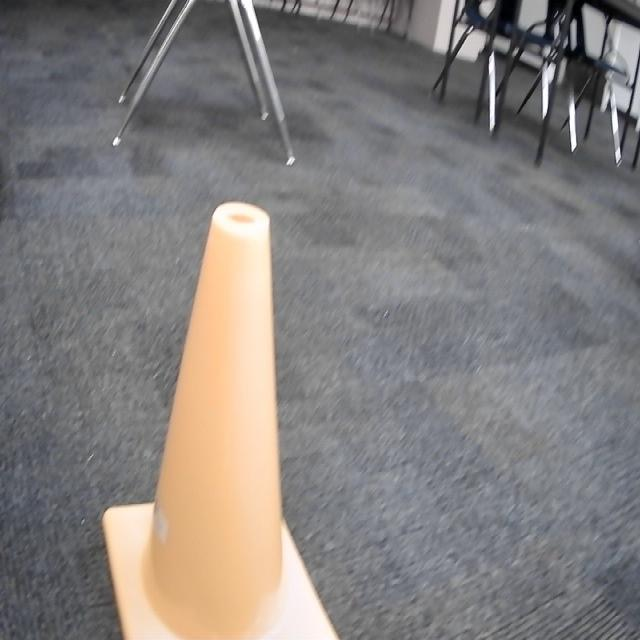cone: (102, 201, 339, 640)
